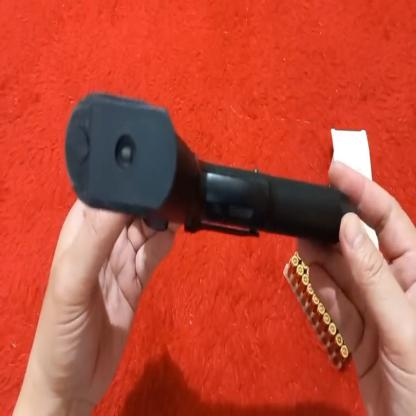handgun: (62, 78, 364, 259)
